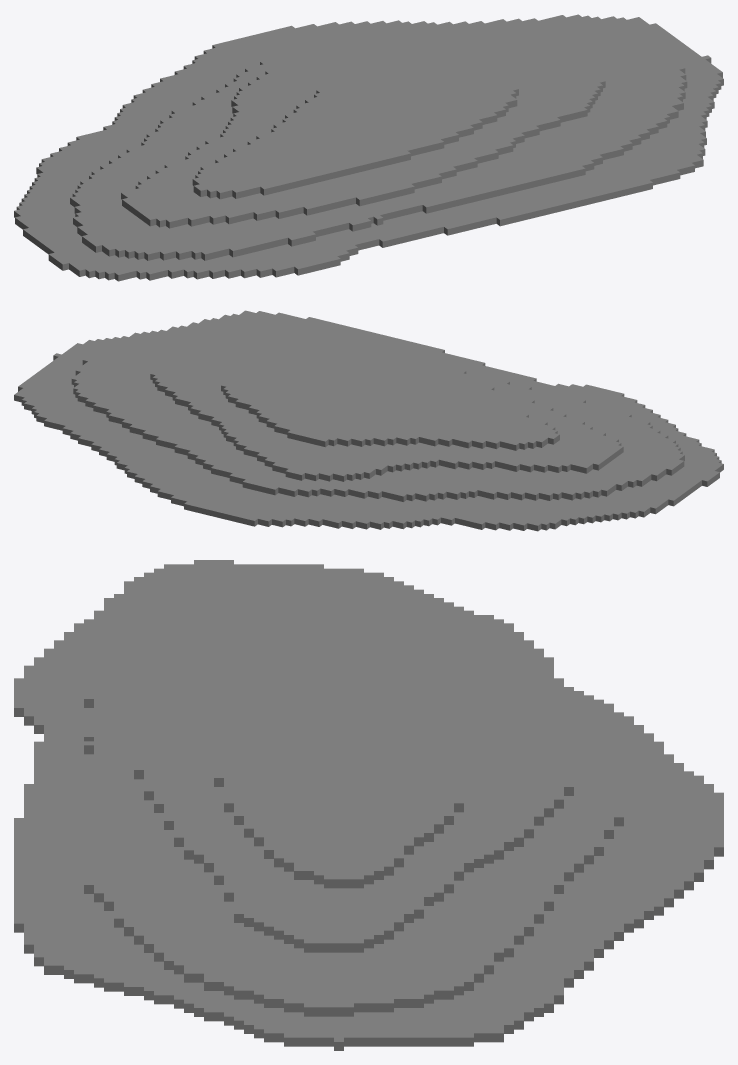
The model's file is Main Island Landscape-0.obj.
3 views of the same model, one above another, from view 1: azimuth 30°, elevation 25°; view 2: azimuth 150°, elevation 25°; view 3: azimuth 270°, elevation 25° (orthographic). The views are drawn at different scales.
Parts seen in each view (by area): view 1: Main Island Landscape-0; view 2: Main Island Landscape-0; view 3: Main Island Landscape-0.
Boxes of the visible parts, x1,y1,x2,y2 form: Main Island Landscape-0: (14, 14, 723, 281); Main Island Landscape-0: (14, 310, 723, 531); Main Island Landscape-0: (14, 560, 723, 1050).
Bounding box in the file's own units: 114 × 4 × 71.
Materials: 1 (1 with a texture image).
